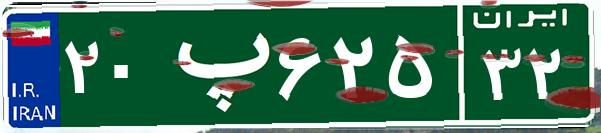0: (110, 28, 158, 105)
2: (330, 28, 385, 110), (57, 26, 110, 107), (525, 38, 570, 115)
3: (475, 38, 525, 113)
5: (385, 28, 445, 110)
6: (273, 28, 330, 110)
پ: (158, 15, 273, 115)
